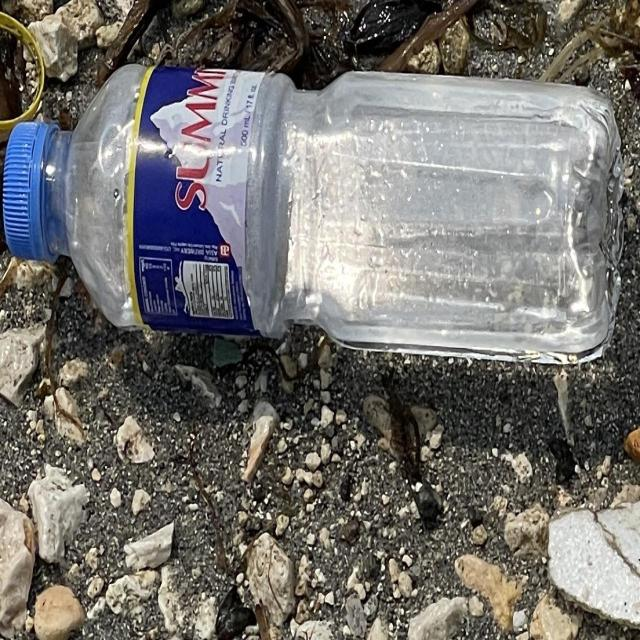plastic_waste: (1, 62, 617, 367)
